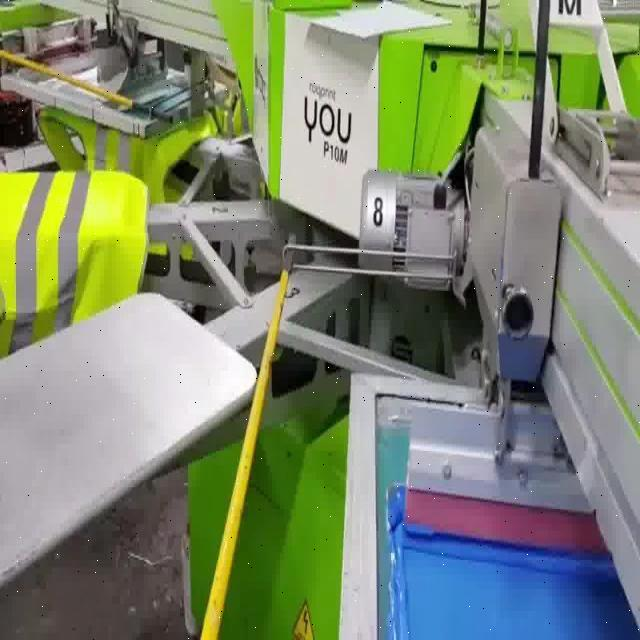Vest: (1, 163, 151, 363)
